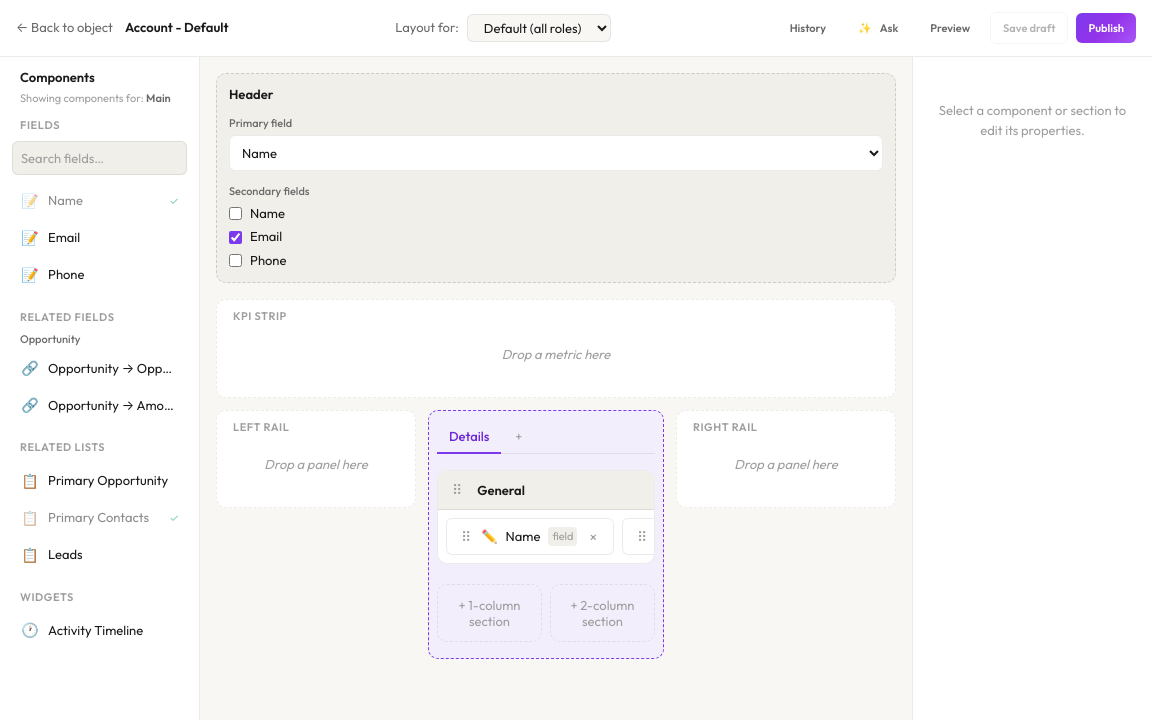
Test: PageBuilderPage › can add a new tab
What coordinates should you click on to do the following:
click the button with test id "add-tab-button"
I would click on:
 (519, 436)
Its box is [503, 420, 534, 452].
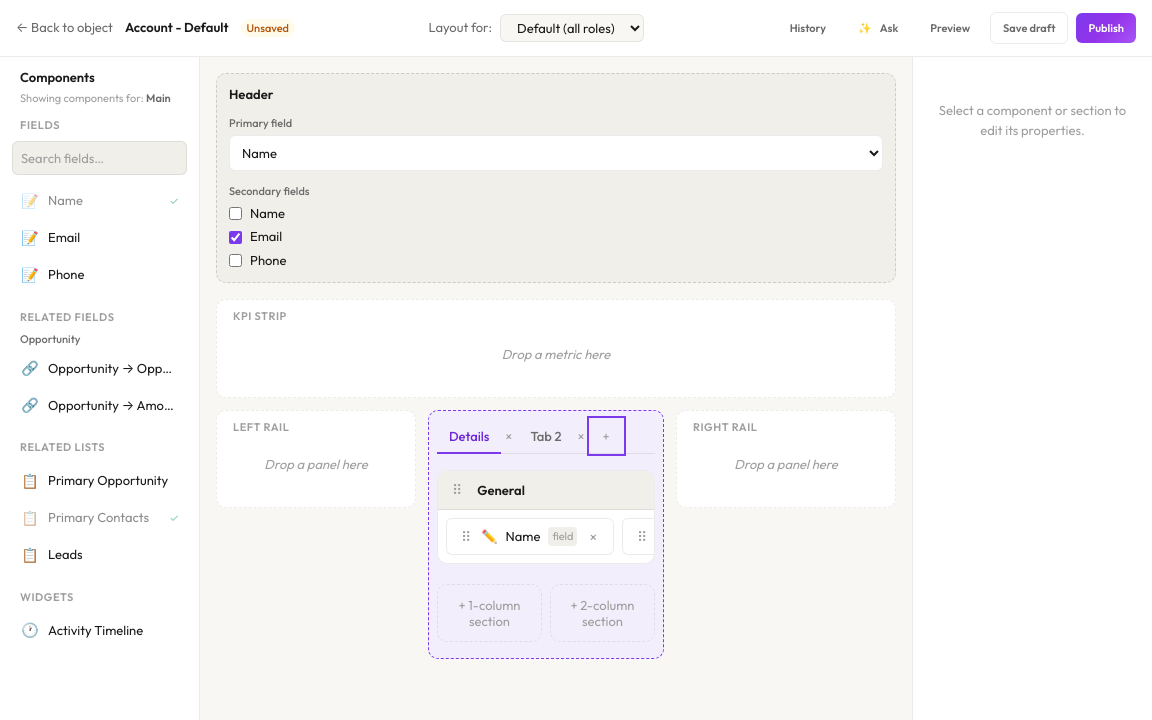
Now the button "Tab 2" is shown, box [518, 420, 574, 454]
